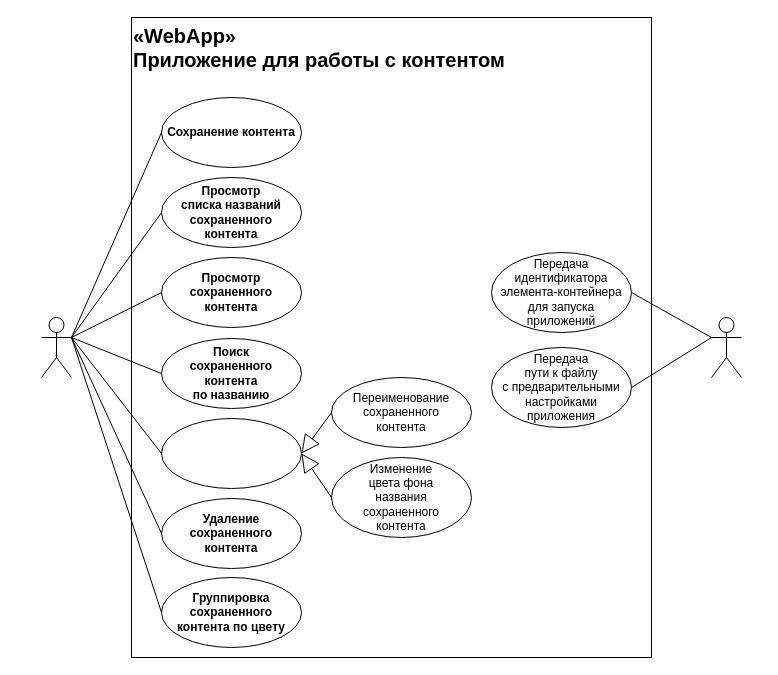
Image size: 778x675. Some labels were removed from this diagram. Here are the shapes that lost their labels. From the top down, the box of each, then its label:
(40, 316, 72, 378): Пользователь
(710, 316, 742, 378): Разработчик
(160, 418, 302, 488): Настройка сохраненного контента
